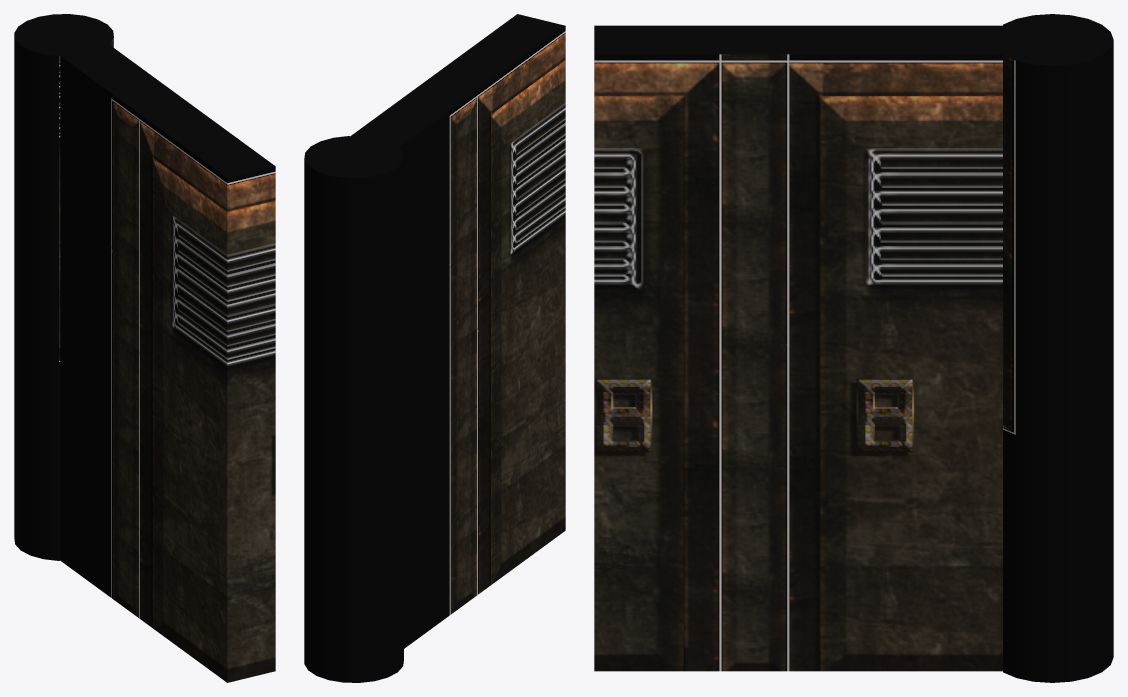
Rendered from Door.fbx.
3 renders of one model, left to right at view 1: azimuth 30°, elevation 25°; view 2: azimuth 150°, elevation 25°; view 3: azimuth 270°, elevation 25°, orthographic. The views are drawn at different scales.
Parts seen in each view (by area): view 1: Door, Hinge; view 2: Door, Hinge; view 3: Door, Hinge.
Boxes of the visible parts, bbox=[...] form: Door: bbox=[60, 44, 275, 682]; Hinge: bbox=[14, 14, 113, 560]; Door: bbox=[351, 14, 565, 648]; Hinge: bbox=[304, 136, 403, 682]; Door: bbox=[594, 25, 1002, 671]; Hinge: bbox=[1003, 14, 1113, 682].
Size of the model in its own units: 0.9 by 5 by 3.81.
